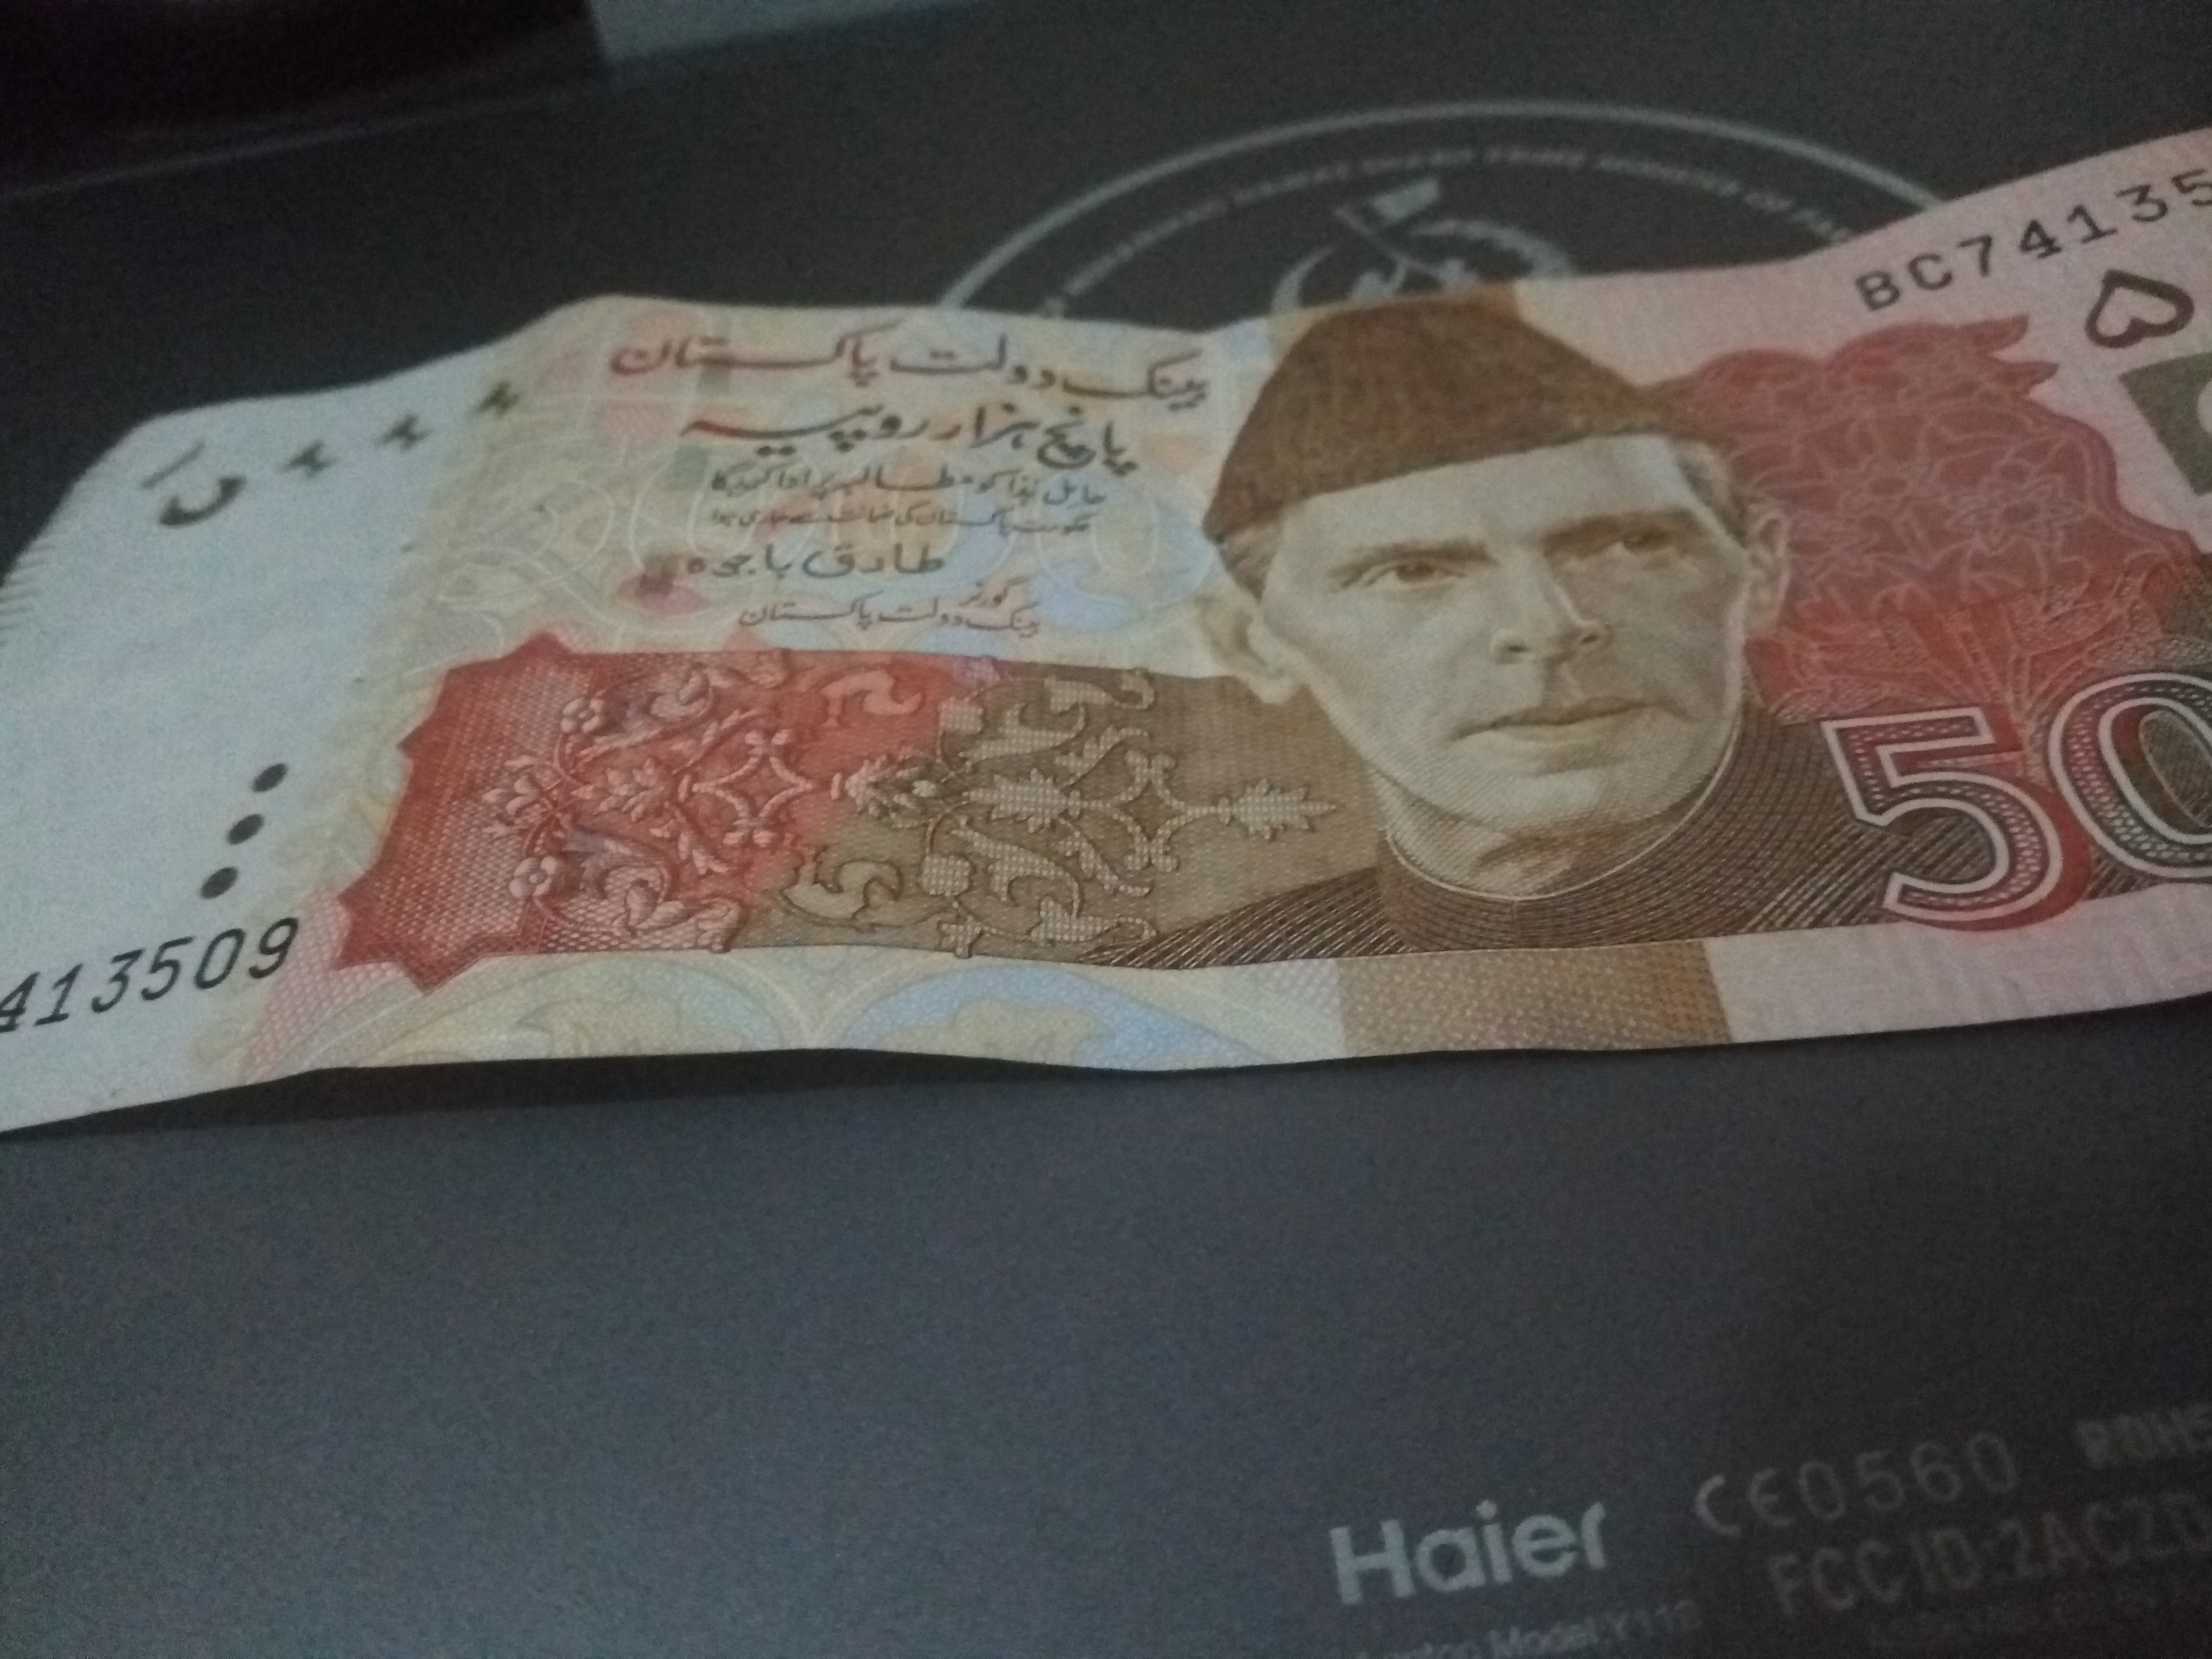5000 rupee: (30, 220, 2196, 1173)
